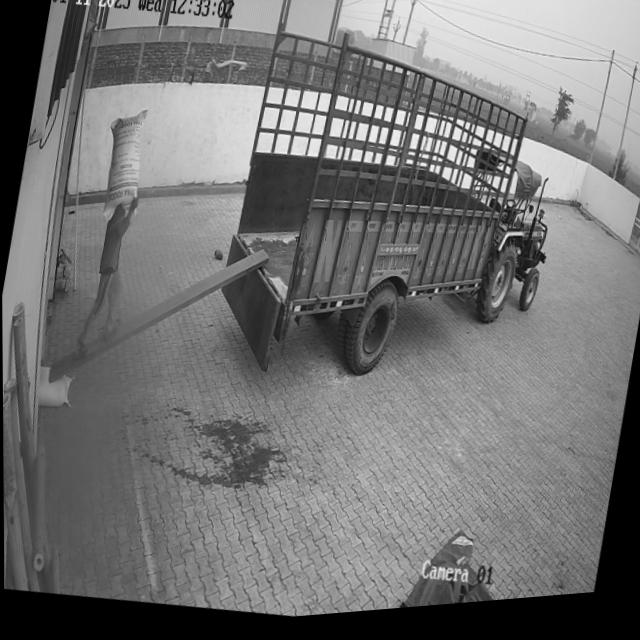sack: (94, 106, 151, 227), (32, 362, 74, 410)
